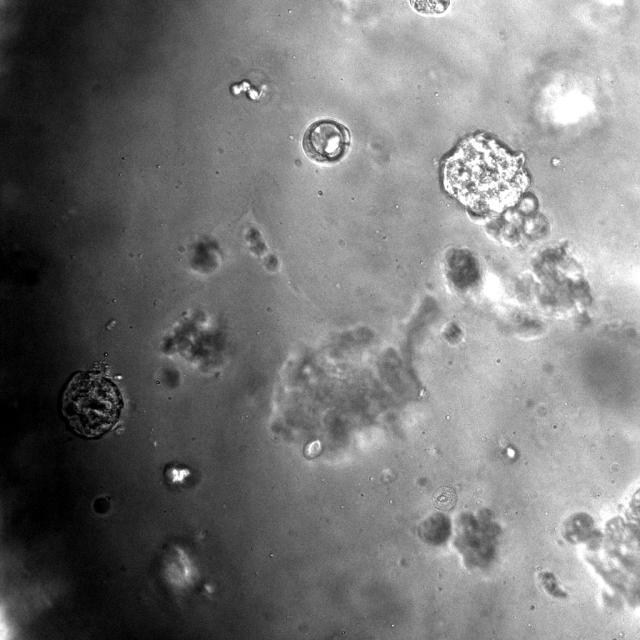organoid: (269, 296, 439, 459), (442, 241, 592, 339), (439, 131, 549, 246), (562, 485, 639, 611), (61, 362, 128, 439), (161, 309, 229, 373), (452, 507, 502, 570), (301, 118, 351, 165), (244, 225, 279, 270), (189, 236, 221, 274), (416, 512, 451, 545), (164, 462, 199, 490), (230, 79, 266, 101), (538, 570, 566, 596), (154, 364, 181, 389), (408, 0, 450, 16), (432, 486, 457, 510), (441, 321, 463, 344), (92, 497, 110, 514)
